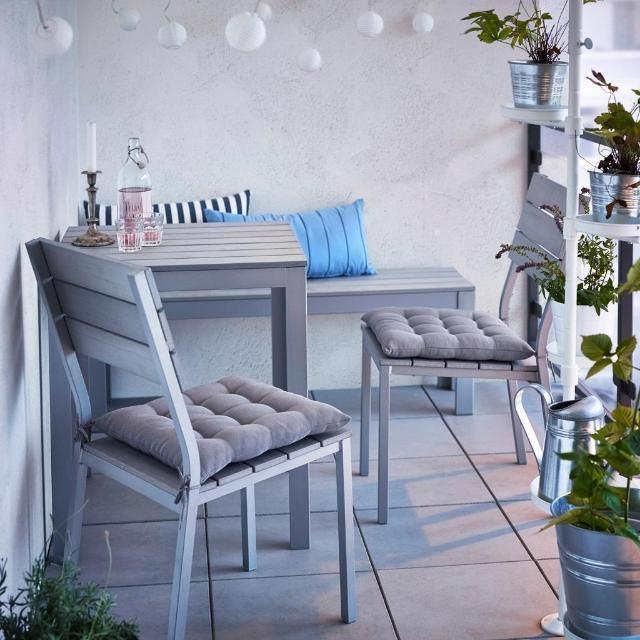obstacle: (23, 236, 359, 638), (356, 168, 592, 526)
